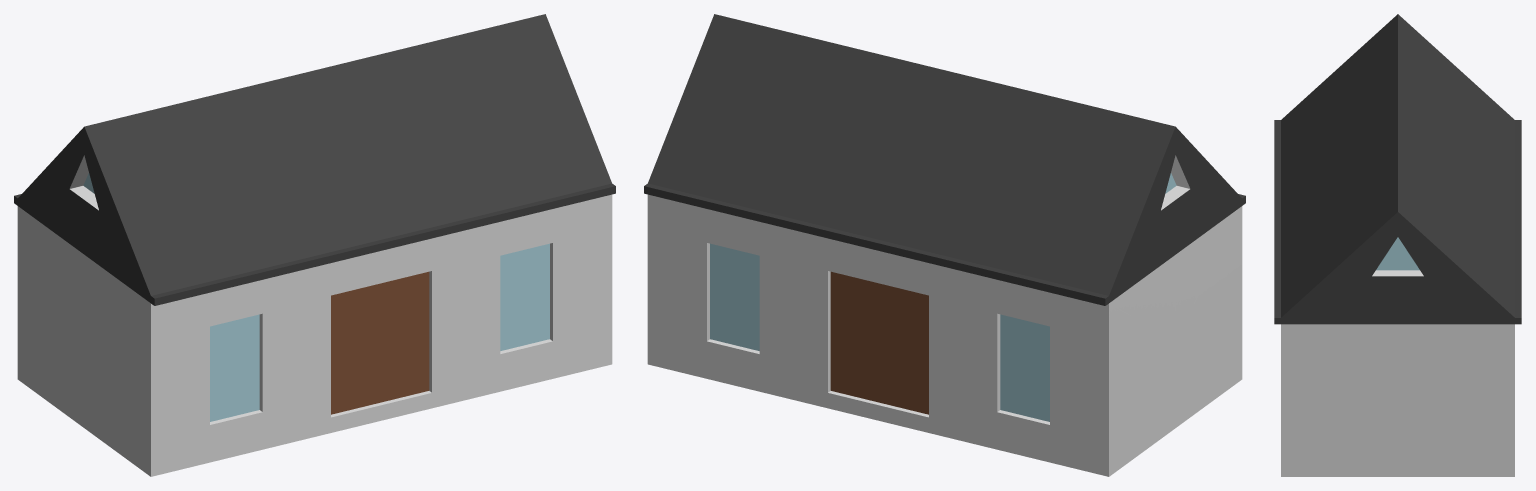
The model's file is HouseA.fbx.
The picture shows the model from 3 angles, left to right: view 1: azimuth 30°, elevation 25°; view 2: azimuth 150°, elevation 25°; view 3: azimuth 270°, elevation 25°; orthographic projection. The views are drawn at different scales.
Visible parts, largest first — view 1: Cube; view 2: Cube; view 3: Cube.
Part boxes in pixels (left/top/right/bottom): Cube: left=14, top=14, right=615, bottom=476; Cube: left=644, top=14, right=1245, bottom=476; Cube: left=1274, top=14, right=1521, bottom=476.
Bounding box in the file's own units: 400 × 250 × 211.
